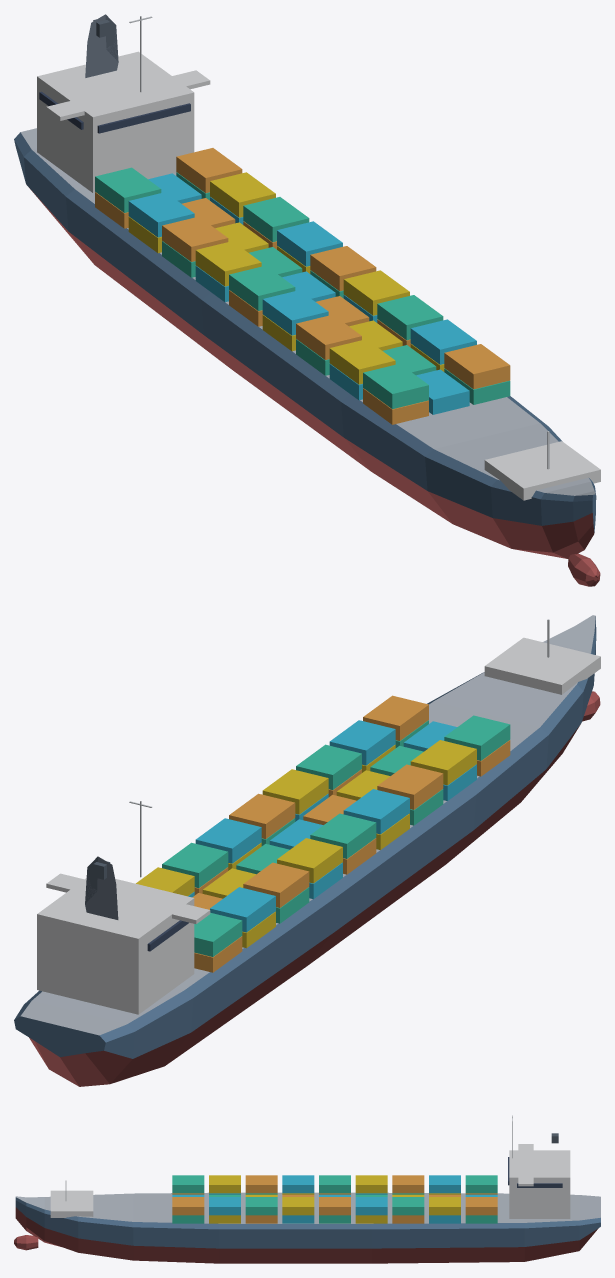
Rendered from cargo-ship.glb.
3 views of the same model, one above another, from view 1: azimuth 30°, elevation 25°; view 2: azimuth 150°, elevation 25°; view 3: azimuth 270°, elevation 25° (orthographic). The views are drawn at different scales.
Visible parts, largest first — view 1: cargo-ship; view 2: cargo-ship; view 3: cargo-ship.
Boxes of the visible parts, left/top/right/bottom form: cargo-ship: left=14, top=14, right=600, bottom=586; cargo-ship: left=14, top=615, right=600, bottom=1086; cargo-ship: left=14, top=1115, right=600, bottom=1263.
Bounding box in the file's own units: 31 × 51.5 × 192.
